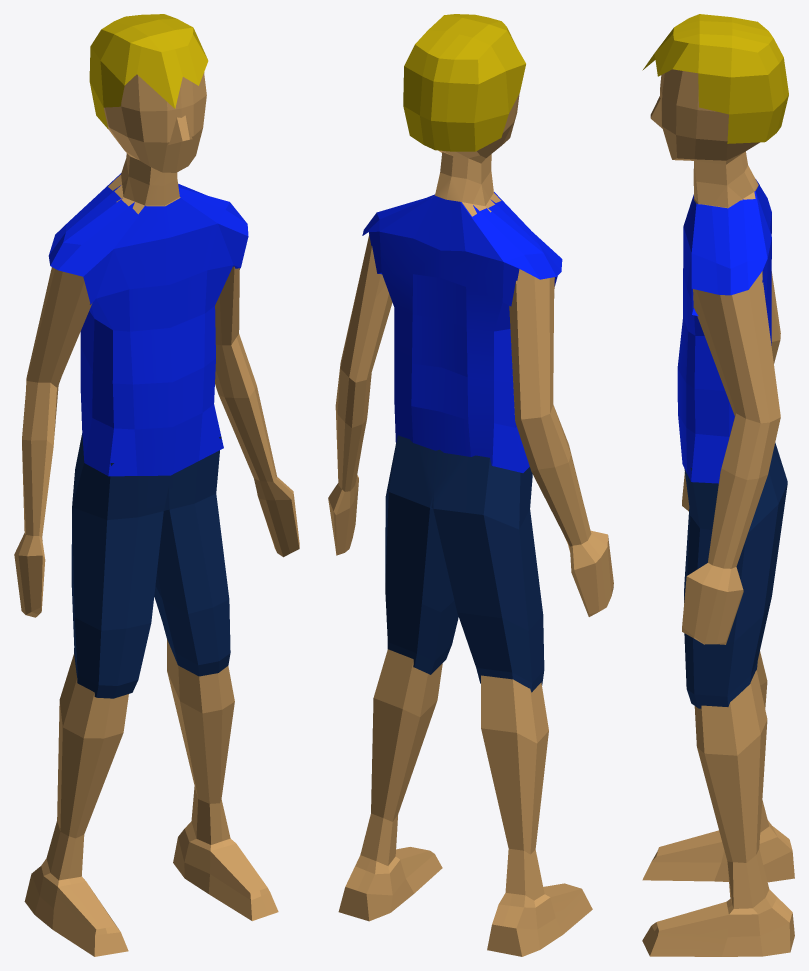
Rendered from Caucasion Guy low poly.FBX.
The picture shows the model from 3 angles, left to right: view 1: azimuth 30°, elevation 25°; view 2: azimuth 150°, elevation 25°; view 3: azimuth 270°, elevation 25°; orthographic projection.
Parts seen in each view (by area): view 1: Box009, Object013, Object014, Object012; view 2: Box009, Object013, Object014, Object012; view 3: Box009, Object013, Object014, Object012.
Boxes of the visible parts, x1=… form: Box009: x1=14, y1=73, x2=299, y2=956; Object013: x1=48, y1=173, x2=248, y2=476; Object014: x1=71, y1=433, x2=230, y2=698; Object012: x1=89, y1=14, x2=208, y2=128; Box009: x1=328, y1=93, x2=613, y2=956; Object013: x1=362, y1=192, x2=562, y2=472; Object014: x1=385, y1=435, x2=544, y2=692; Object012: x1=403, y1=14, x2=525, y2=151; Box009: x1=642, y1=69, x2=794, y2=956; Object013: x1=677, y1=179, x2=771, y2=483; Object014: x1=684, y1=443, x2=787, y2=708; Object012: x1=642, y1=14, x2=788, y2=143.
Size of the model in its own units: 9.61 by 30.2 by 4.73.
